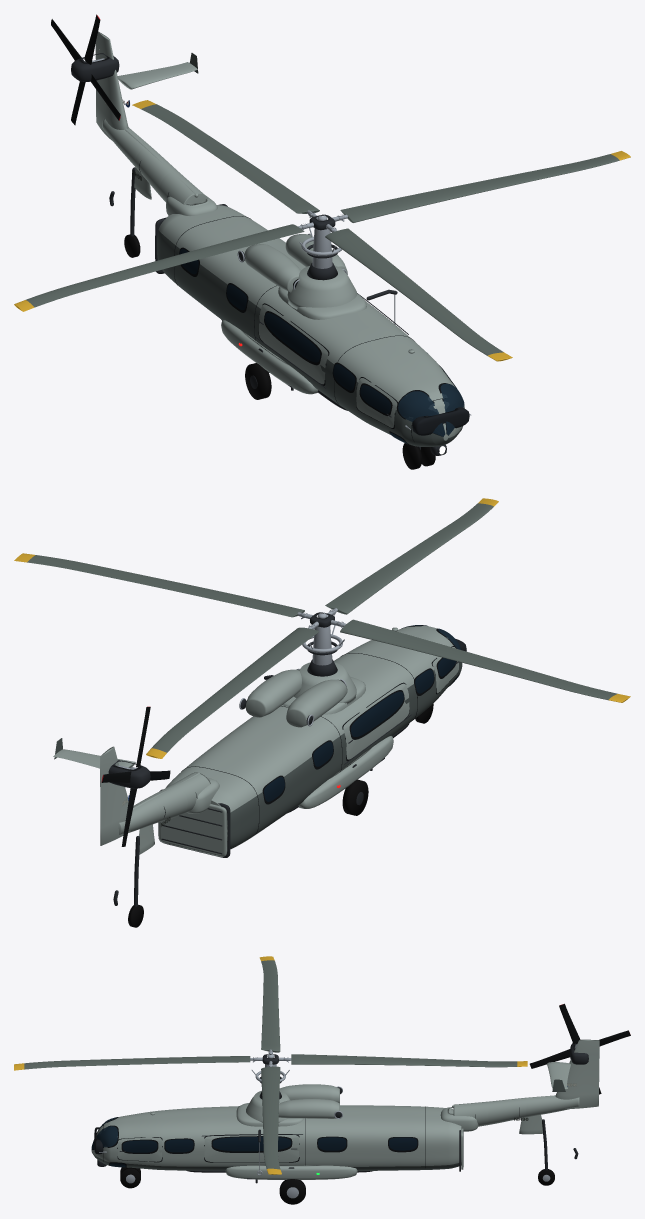
The picture shows the model from 3 angles, top to bottom: view 1: azimuth 30°, elevation 25°; view 2: azimuth 150°, elevation 25°; view 3: azimuth 270°, elevation 25°; orthographic projection. The views are drawn at different scales.
Visible parts, largest first — view 1: Fuselage_cabine, Pale_4, Pale_1, Pale_3, Pale_2, Poutre_de_queue, sliding_door_lh, main_gearbox_cowling, sponson_lh, vertical_fin, engine_lh, cockpit_door_lh (+11 smaller); view 2: Fuselage_cabine, Pale_3, Pale_2, Pale_4, Pale_1, rear_ramp, sliding_door_lh, Poutre_de_queue, vertical_fin, sponson_lh, engine_lh, engine_rh (+8 smaller); view 3: Fuselage_cabine, sliding_door_rh, Poutre_de_queue, Pale_2, vertical_fin, Pale_1, sponson_rh, Pale_4, Pale_3, engine_rh, cockpit_door_rh, Tail_rotor_blades (+13 smaller).
Part boxes in pixels (box(x1,y1,x2,y2)): Fuselage_cabine: box(157, 205, 464, 446); Pale_4: box(325, 228, 512, 361); Pale_1: box(340, 151, 630, 222); Pale_3: box(14, 224, 304, 311); Pale_2: box(132, 100, 319, 213); Poutre_de_queue: box(102, 118, 208, 204); sliding_door_lh: box(255, 303, 329, 388); main_gearbox_cowling: box(287, 266, 357, 309); sponson_lh: box(221, 320, 317, 394); vertical_fin: box(95, 31, 128, 140); engine_lh: box(244, 244, 300, 292); cockpit_door_lh: box(356, 377, 397, 428); Fuselage_cabine: box(166, 626, 462, 849); Pale_3: box(340, 619, 630, 702); Pale_2: box(146, 627, 319, 758); Pale_4: box(325, 498, 498, 614); Pale_1: box(14, 553, 304, 617); rear_ramp: box(158, 789, 230, 857); sliding_door_lh: box(342, 682, 411, 764); Poutre_de_queue: box(118, 772, 210, 834); vertical_fin: box(100, 746, 132, 845); sponson_lh: box(298, 736, 393, 808); engine_lh: box(286, 679, 347, 727); engine_rh: box(245, 669, 301, 717); Fuselage_cabine: box(91, 1105, 461, 1170); sliding_door_rh: box(202, 1134, 302, 1162); Poutre_de_queue: box(452, 1095, 579, 1126); Pale_2: box(291, 1054, 527, 1067); vertical_fin: box(555, 1039, 599, 1108); Pale_1: box(261, 1066, 281, 1174); sponson_rh: box(225, 1165, 357, 1179); Pale_4: box(14, 1056, 250, 1070); Pale_3: box(259, 956, 280, 1052); engine_rh: box(278, 1098, 339, 1118); cockpit_door_rh: box(117, 1137, 162, 1162); Tail_rotor_blades: box(529, 1003, 630, 1094).
Size of what is drawn, in the model's own units: 16.3 by 6.09 by 19.58.
Materials: 26 (5 with a texture image).
